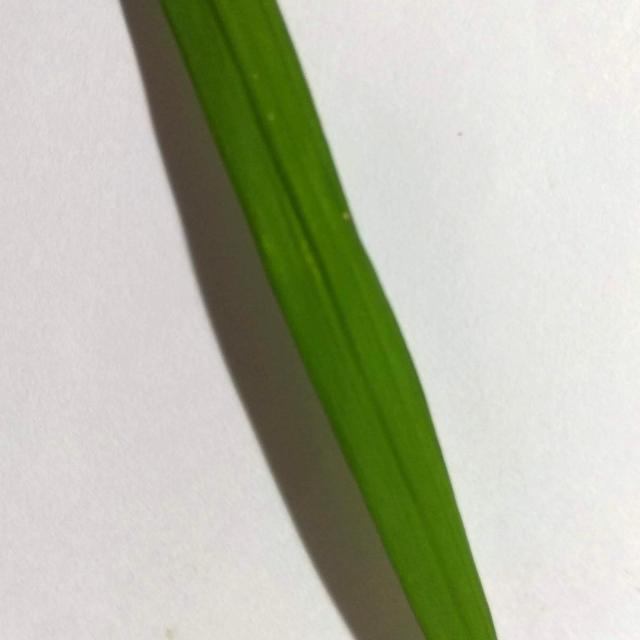healthy: (123, 0, 568, 640)
